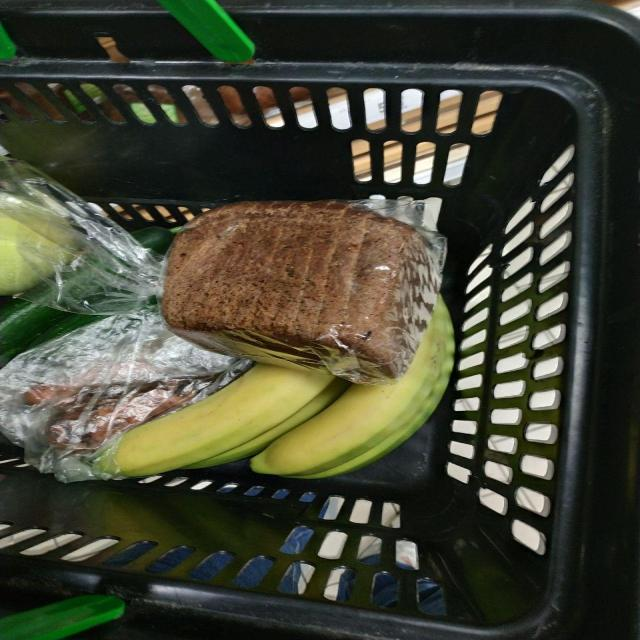banana: (202, 225, 638, 632), (198, 218, 612, 628), (150, 215, 497, 606), (127, 222, 442, 620)
cucumber: (87, 110, 218, 343), (48, 156, 117, 471), (2, 180, 29, 530)
